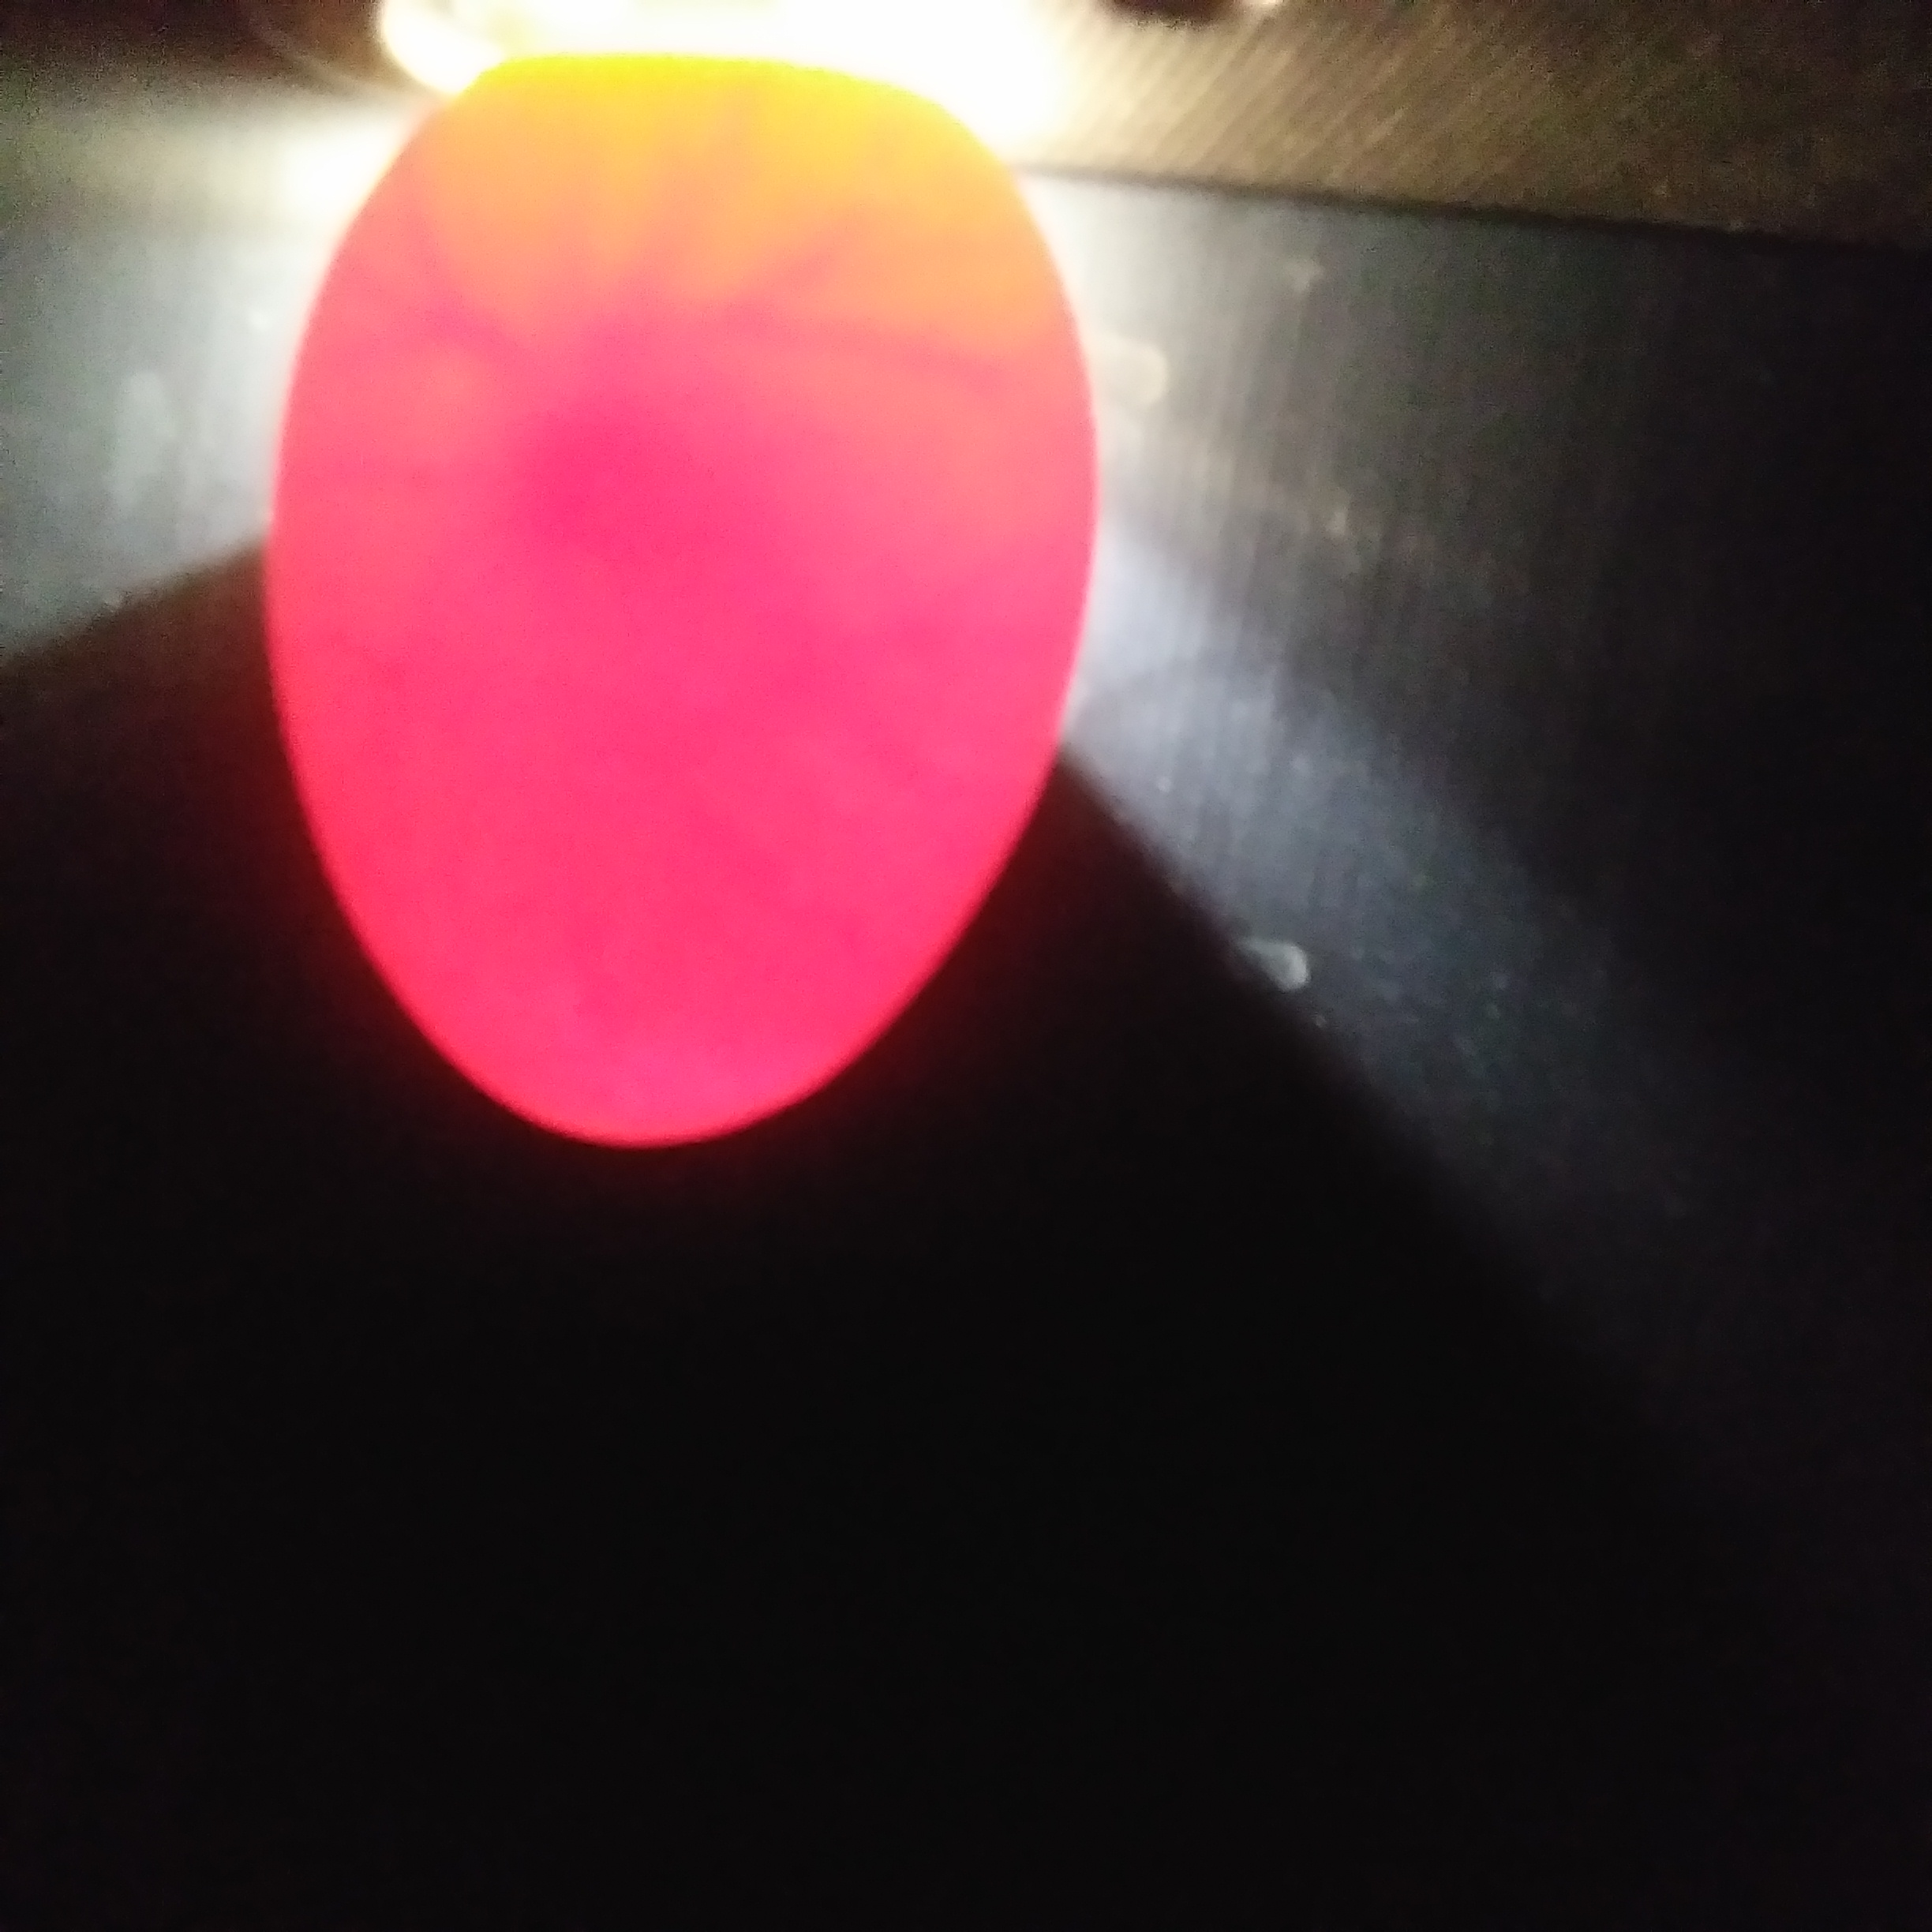bloodcell: (612, 161, 954, 366), (403, 228, 513, 373)
